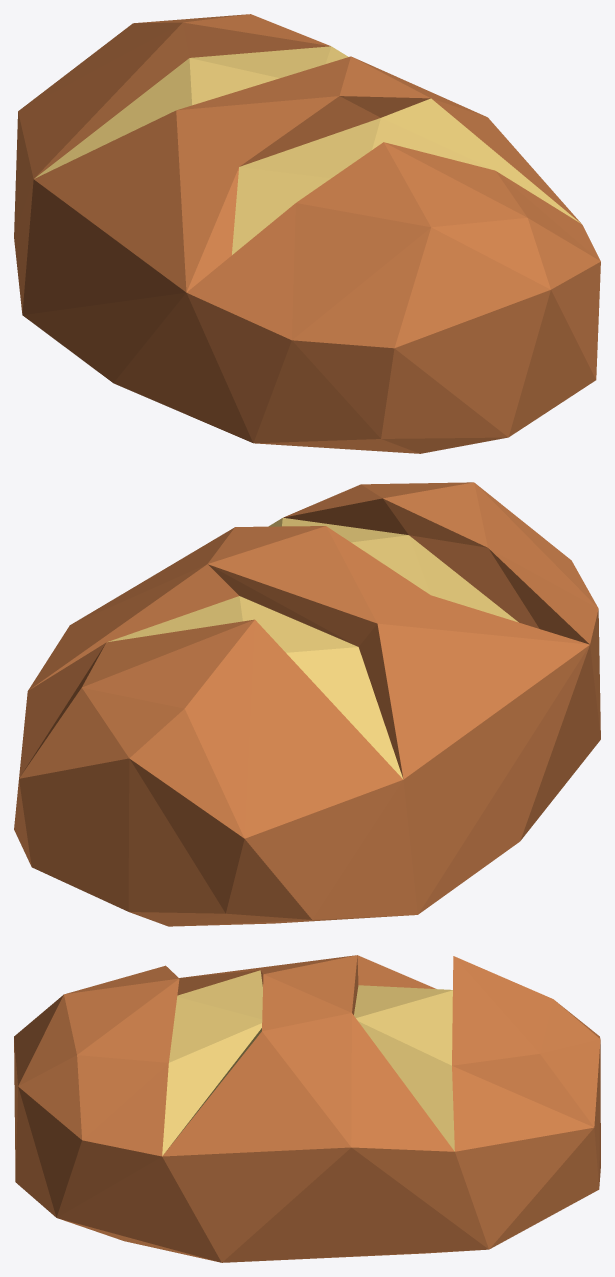
The model's file is Bread.fbx.
3 views of the same model, one above another, from view 1: azimuth 30°, elevation 25°; view 2: azimuth 150°, elevation 25°; view 3: azimuth 270°, elevation 25° (orthographic). The views are drawn at different scales.
Parts seen in each view (by area): view 1: Cube; view 2: Cube; view 3: Cube.
Boxes of the visible parts, x1,y1,x2,y2 form: Cube: (14, 14, 600, 453); Cube: (14, 482, 600, 926); Cube: (14, 955, 600, 1262).
Bounding box in the file's own units: 39.59 × 28.23 × 58.64.
